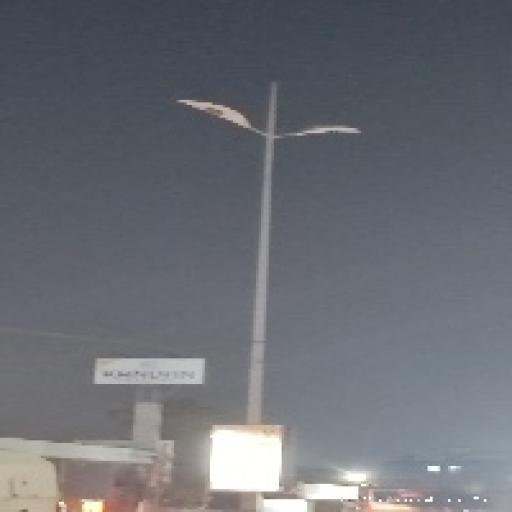Not Working: (169, 91, 260, 137), (285, 115, 364, 148)
